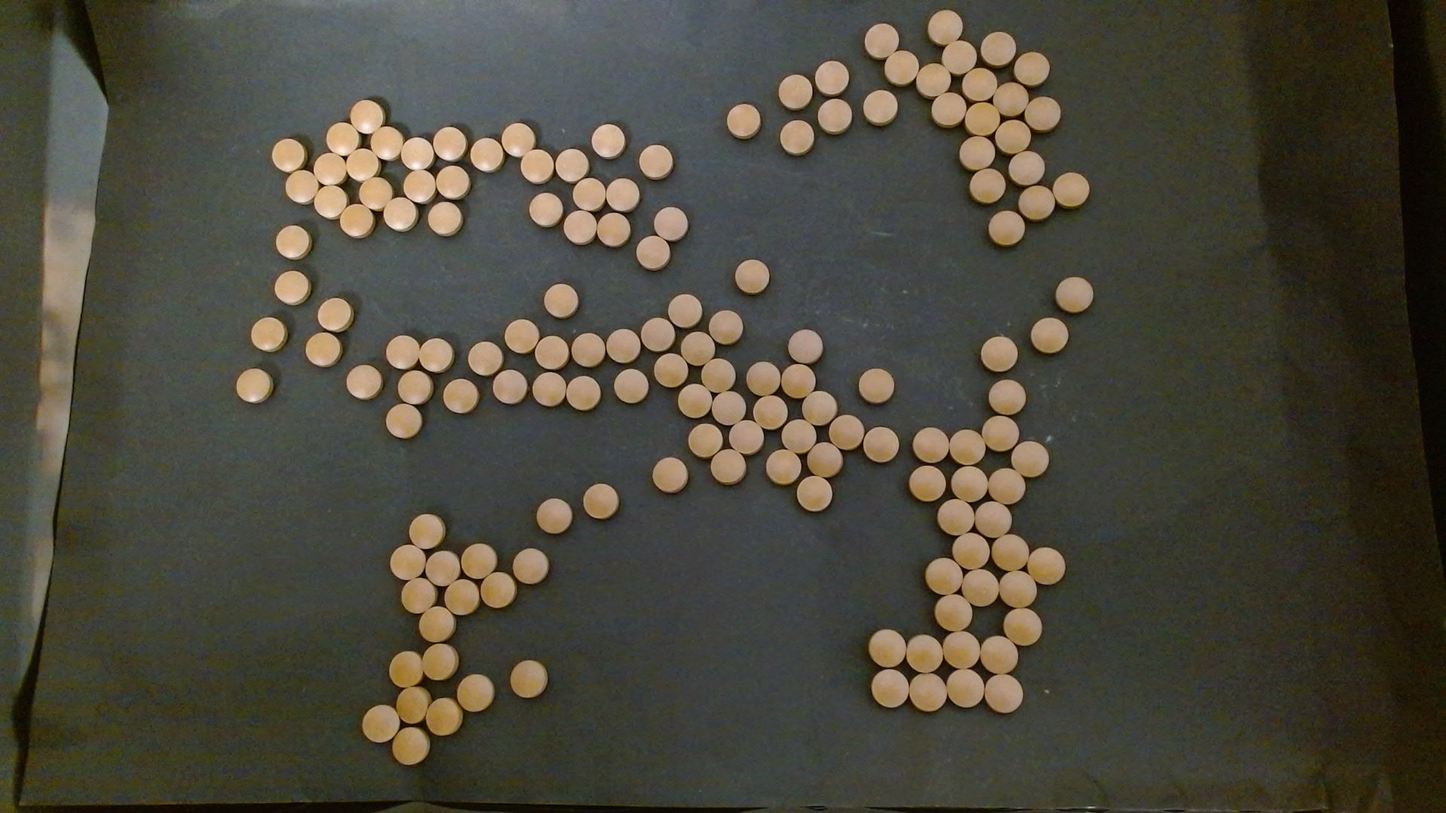Circle: (1029, 315, 1070, 355), (508, 659, 548, 699), (998, 569, 1038, 608), (871, 668, 910, 708), (935, 498, 975, 537), (391, 726, 430, 766), (868, 629, 907, 668), (1026, 546, 1065, 585), (980, 635, 1019, 674), (933, 594, 972, 633), (905, 633, 944, 672), (951, 531, 990, 570), (942, 629, 981, 668), (456, 673, 494, 713), (1002, 607, 1042, 645), (974, 499, 1012, 539), (984, 674, 1022, 714), (946, 668, 984, 708), (909, 672, 947, 712), (988, 378, 1027, 416), (1011, 440, 1049, 479), (361, 705, 400, 743), (991, 533, 1030, 571), (987, 466, 1026, 504), (909, 464, 947, 503), (1054, 276, 1094, 313), (233, 367, 274, 403), (1052, 170, 1090, 208), (407, 512, 445, 550), (418, 605, 456, 643), (651, 455, 688, 494), (925, 556, 962, 595), (950, 464, 989, 501), (512, 547, 549, 585), (249, 315, 287, 352), (273, 269, 311, 306), (384, 403, 422, 440), (709, 447, 746, 485), (911, 426, 949, 463), (961, 568, 999, 605), (273, 224, 312, 260), (535, 498, 572, 535), (988, 209, 1025, 246), (981, 335, 1018, 372), (480, 572, 517, 609), (796, 475, 833, 512), (983, 415, 1020, 452), (389, 543, 426, 580), (581, 483, 619, 519), (345, 364, 383, 400), (304, 331, 342, 367), (817, 97, 853, 135), (401, 577, 437, 615), (426, 697, 462, 735), (1012, 50, 1050, 86), (349, 98, 385, 136), (725, 102, 761, 139), (858, 367, 895, 403), (862, 89, 898, 126), (777, 73, 813, 110), (765, 449, 801, 486), (339, 202, 376, 238), (427, 199, 463, 236), (1008, 149, 1045, 185), (959, 135, 996, 171), (801, 388, 837, 425), (787, 328, 823, 365), (384, 333, 420, 370), (1024, 95, 1061, 131), (926, 9, 962, 46), (995, 117, 1031, 154), (961, 65, 997, 102), (963, 100, 1000, 136), (421, 642, 456, 680), (1018, 184, 1054, 220), (734, 258, 770, 294), (778, 119, 814, 155), (460, 543, 496, 579), (638, 143, 674, 179), (270, 136, 306, 172), (980, 30, 1016, 66), (503, 318, 539, 354), (533, 334, 569, 370), (688, 422, 724, 458), (389, 650, 424, 687), (317, 297, 354, 332), (441, 378, 478, 413), (528, 190, 563, 227), (815, 59, 850, 96), (864, 22, 899, 59), (828, 413, 863, 450), (781, 362, 816, 399), (931, 90, 966, 127), (969, 168, 1005, 203), (398, 369, 433, 405), (635, 236, 671, 271), (863, 427, 898, 463), (543, 282, 578, 318), (653, 205, 688, 241), (435, 163, 470, 199), (590, 123, 626, 158), (613, 367, 648, 403), (531, 371, 566, 407), (708, 309, 743, 345), (399, 136, 435, 171), (752, 394, 787, 430), (949, 428, 984, 464), (358, 175, 394, 210), (710, 390, 746, 425), (915, 62, 950, 98), (941, 39, 976, 75), (993, 81, 1028, 117), (640, 316, 675, 352), (492, 370, 527, 405), (596, 212, 631, 247), (566, 375, 601, 410), (418, 337, 453, 372), (314, 183, 349, 218), (729, 419, 764, 454), (468, 341, 503, 376), (469, 137, 504, 172), (653, 353, 688, 388), (701, 358, 736, 393), (444, 578, 478, 614), (520, 148, 554, 184), (563, 209, 597, 245), (807, 441, 841, 477), (501, 121, 535, 157), (396, 686, 429, 723), (383, 196, 417, 231), (425, 551, 459, 586), (285, 169, 319, 204), (746, 361, 780, 396), (325, 121, 359, 156), (781, 418, 816, 452), (883, 50, 917, 85), (678, 382, 712, 417), (370, 125, 404, 160), (432, 126, 466, 161), (570, 332, 604, 367), (681, 331, 715, 366), (572, 177, 606, 212), (402, 169, 436, 203), (555, 148, 589, 182), (313, 151, 347, 185), (668, 293, 702, 327), (606, 177, 639, 212), (606, 328, 639, 363), (346, 148, 379, 181)
